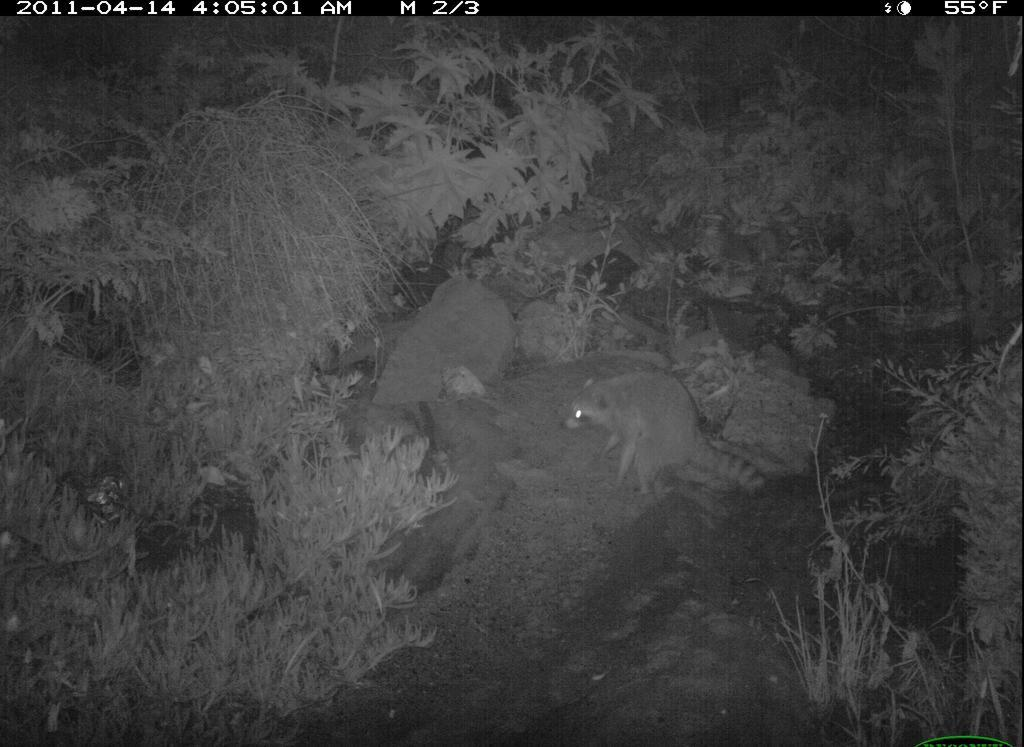raccoon: (557, 367, 769, 496)
